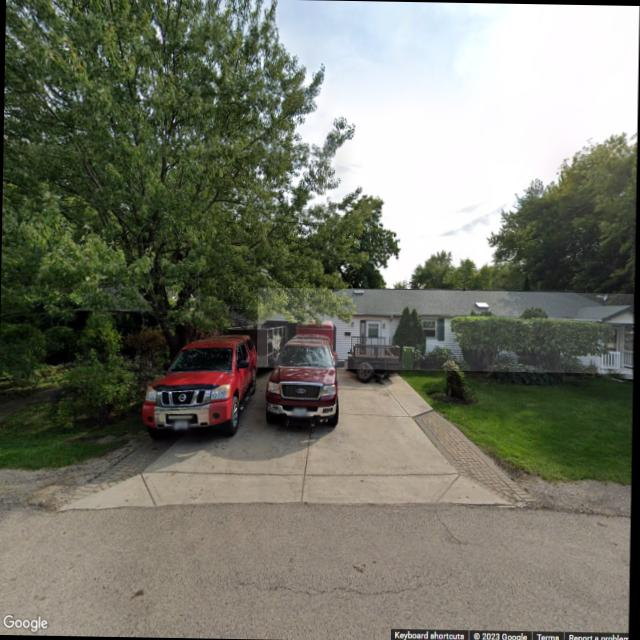House: (257, 286, 634, 374)
